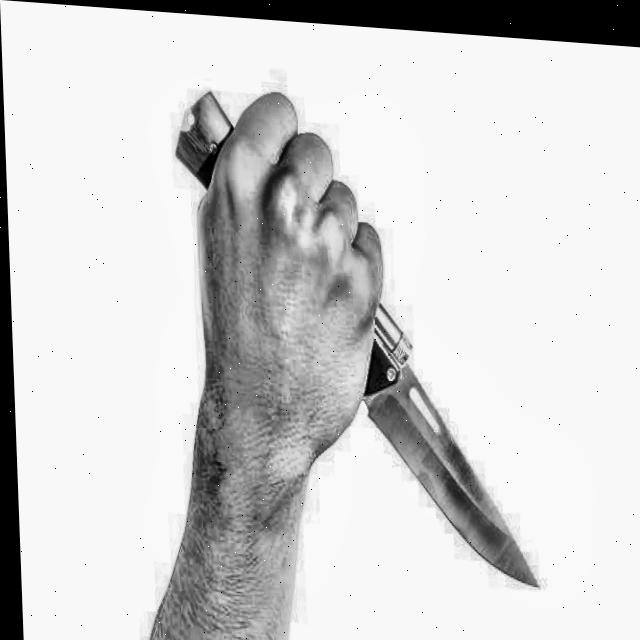pisau: (160, 83, 548, 609)
